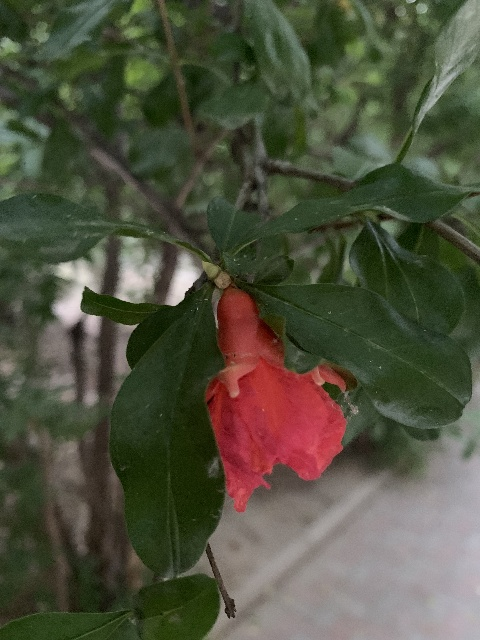flower: (204, 285, 354, 513)
